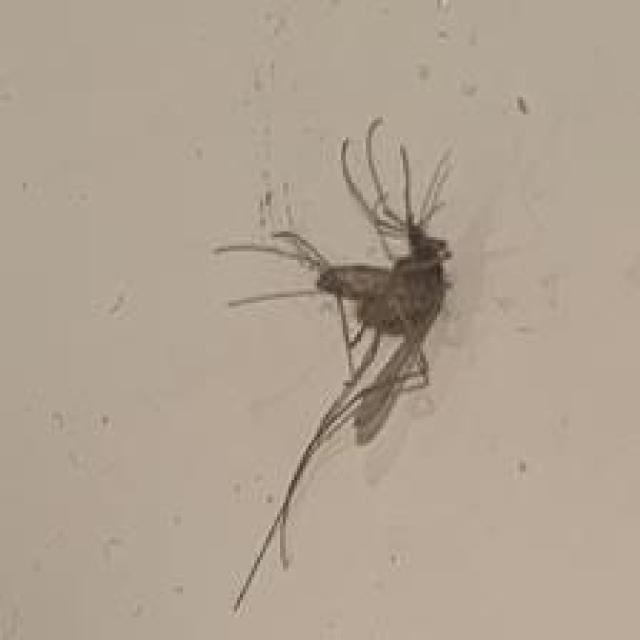Culex: (213, 115, 458, 614)
